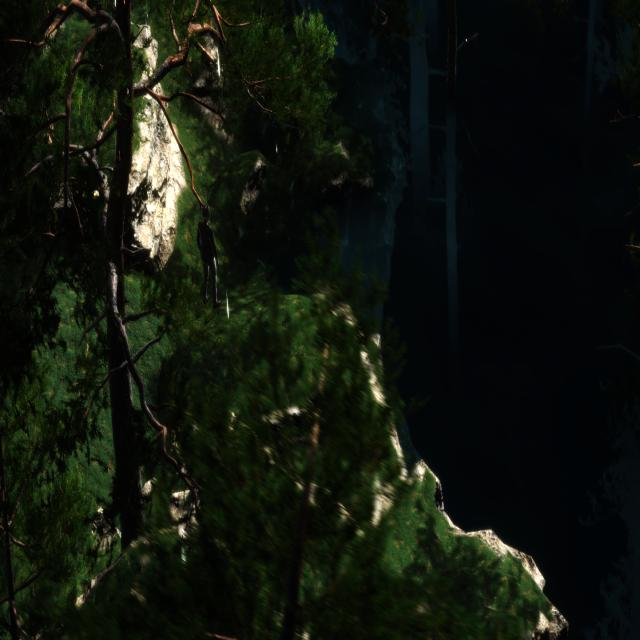Human: (195, 202, 227, 312)
